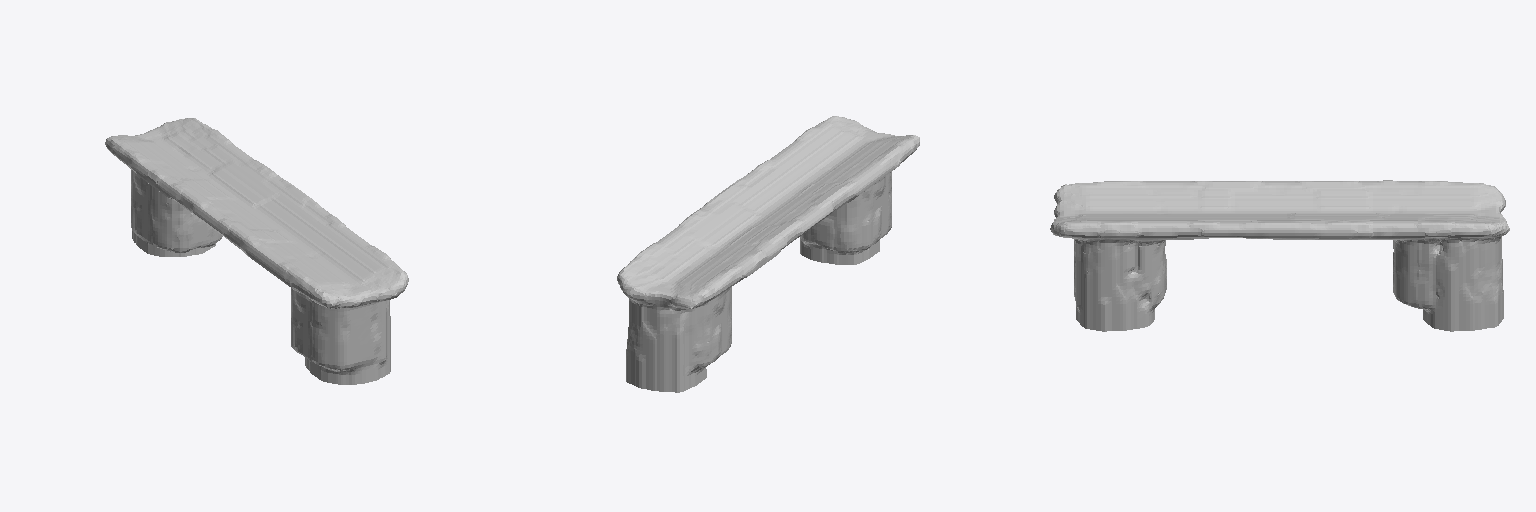
Rendered from bridge.obj.
3 renders of one model, left to right at view 1: azimuth 30°, elevation 25°; view 2: azimuth 150°, elevation 25°; view 3: azimuth 270°, elevation 25°, orthographic.
Parts seen in each view (by area): view 1: bridge; view 2: bridge; view 3: bridge.
Part boxes in pixels (x1,y1,x2,y2): bridge: (105,118,408,384); bridge: (617,116,919,392); bridge: (1050,180,1509,331).
Bounding box in the file's own units: 6.59 × 6.95 × 26.6.